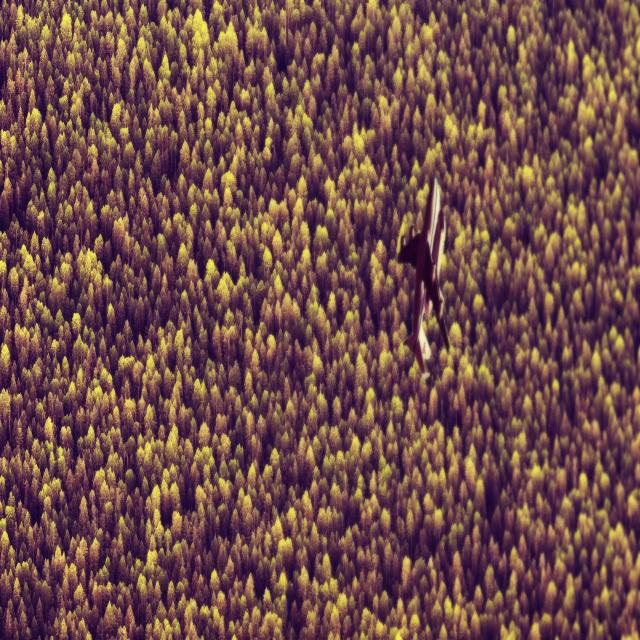airplane: (397, 176, 450, 380)
